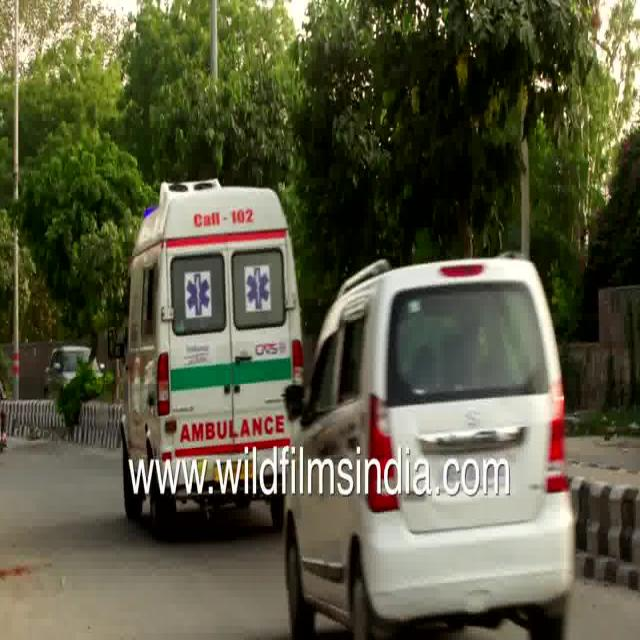ambulance: (110, 165, 306, 449)
